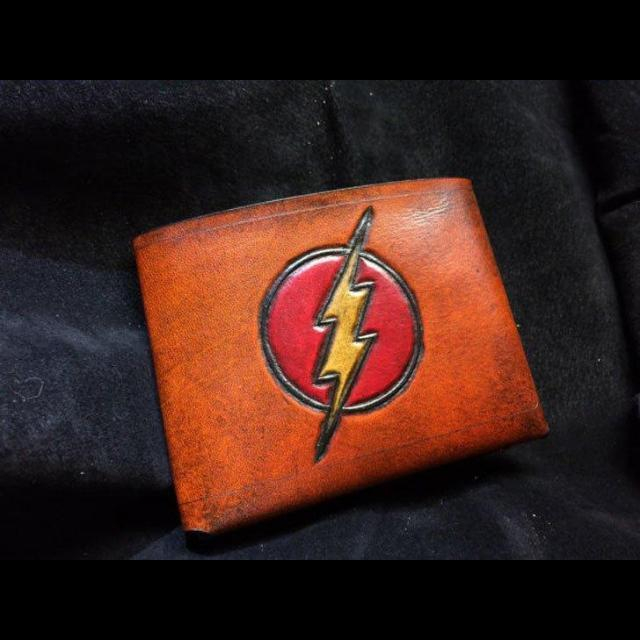wallet: (135, 176, 553, 534)
